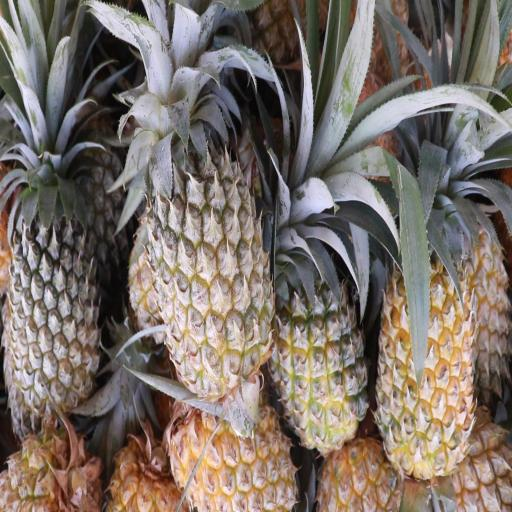------------------------------: (143, 74, 279, 409), (266, 202, 370, 454)
Pineapple - v8 v1: (374, 190, 480, 490), (166, 383, 299, 512)
